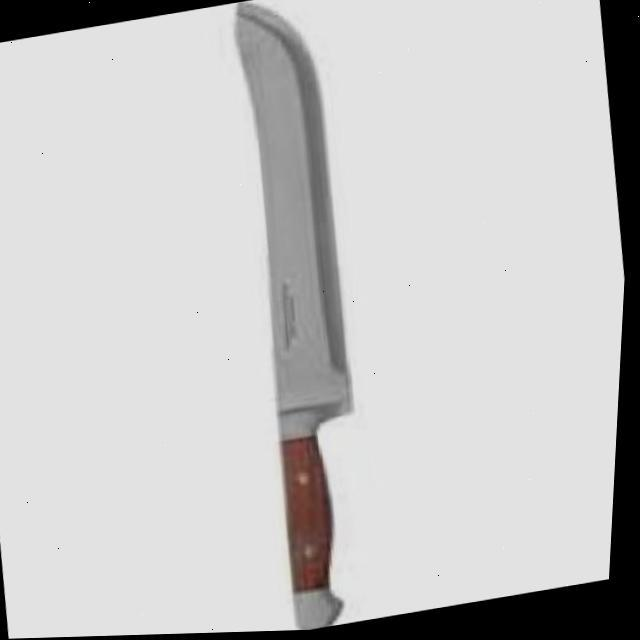knife: (206, 0, 400, 635)
